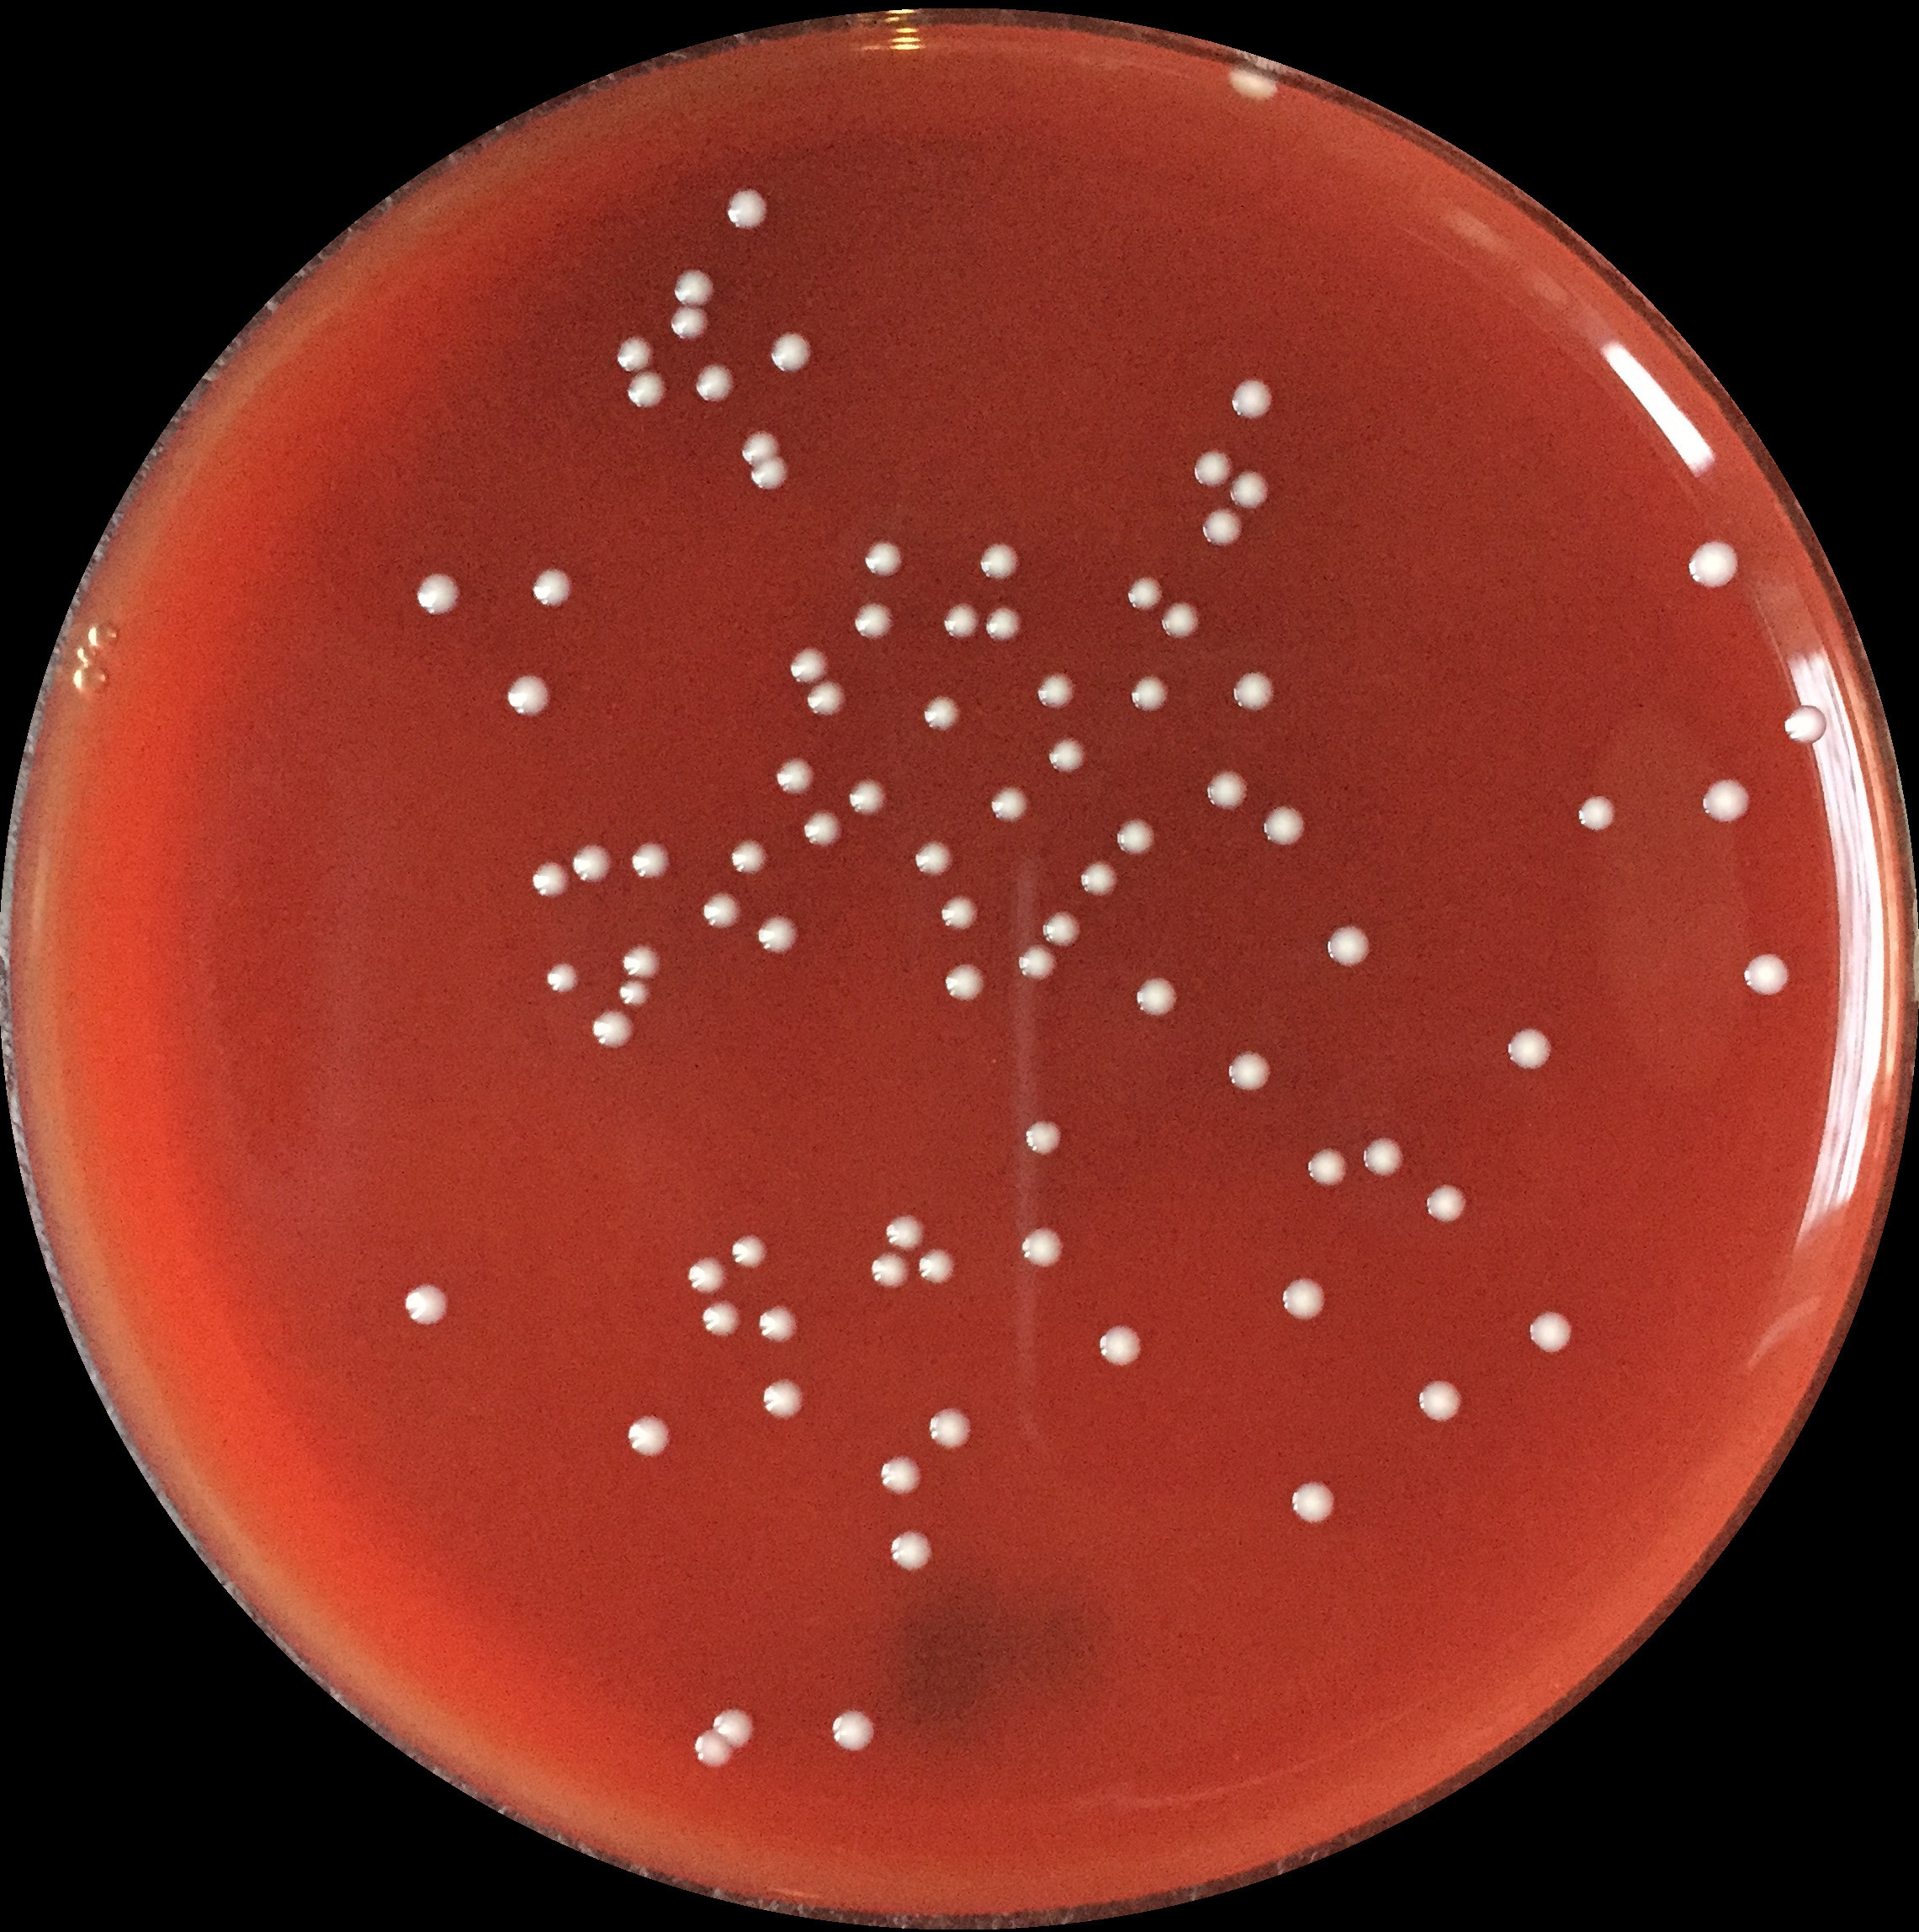sp21: (1225, 60, 1286, 111), (1503, 1025, 1557, 1079), (397, 1280, 453, 1331), (1684, 541, 1740, 591), (1288, 1477, 1339, 1529), (411, 570, 462, 622), (503, 670, 554, 723), (1699, 775, 1754, 824), (585, 1006, 641, 1053), (1320, 923, 1372, 972), (1524, 1308, 1578, 1355), (1411, 1376, 1464, 1424), (1223, 1050, 1278, 1095), (1156, 596, 1207, 643), (1742, 951, 1792, 999), (620, 366, 673, 411), (766, 330, 819, 376), (750, 912, 803, 958), (828, 1709, 880, 1754), (708, 1707, 761, 1753), (924, 1405, 974, 1452), (1281, 1275, 1330, 1322), (1571, 791, 1620, 839), (1197, 508, 1248, 554), (1256, 802, 1307, 847), (1130, 976, 1181, 1021), (1095, 1324, 1146, 1369), (884, 1528, 935, 1573), (682, 1253, 736, 1296), (877, 1213, 933, 1253), (757, 1376, 807, 1422), (875, 1452, 924, 1498), (1780, 703, 1829, 749), (622, 1417, 675, 1459), (691, 362, 738, 408), (1228, 670, 1276, 715), (942, 962, 989, 1007), (724, 188, 773, 232), (796, 809, 845, 853), (1422, 1181, 1471, 1225), (970, 540, 1023, 580), (910, 1248, 965, 1287), (670, 267, 719, 309), (610, 332, 659, 374), (803, 679, 852, 721), (1111, 816, 1160, 858), (689, 1730, 738, 1772), (666, 304, 717, 345), (1190, 448, 1235, 492), (529, 566, 575, 610), (1228, 378, 1276, 420), (859, 538, 907, 580), (1077, 858, 1125, 900), (754, 1303, 801, 1345), (568, 844, 617, 884), (539, 960, 589, 1000), (735, 429, 786, 468), (698, 1299, 749, 1338), (1017, 1224, 1061, 1267), (1227, 468, 1272, 510), (1047, 737, 1093, 779), (1360, 1137, 1406, 1180), (782, 645, 829, 686), (1028, 670, 1075, 710), (771, 756, 819, 796), (844, 777, 891, 817), (984, 786, 1032, 826), (696, 891, 743, 932), (1021, 1116, 1068, 1157), (851, 601, 894, 643), (1126, 672, 1170, 714), (1207, 766, 1251, 809), (910, 839, 956, 879), (626, 840, 671, 881), (728, 839, 777, 875), (726, 1232, 775, 1269), (1121, 577, 1167, 615), (1014, 942, 1060, 981), (938, 895, 981, 935), (1306, 1146, 1350, 1185), (917, 696, 963, 733), (1039, 911, 1084, 948), (527, 861, 573, 898), (981, 605, 1023, 643), (749, 459, 794, 494), (872, 1250, 912, 1289), (938, 603, 981, 636), (615, 977, 655, 1011), (619, 946, 661, 977)
